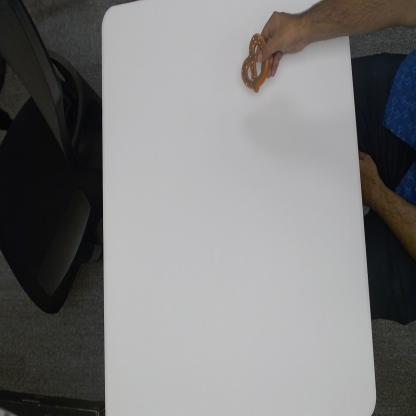Arm: (298, 1, 416, 46)
Hand: (257, 9, 298, 80)
Pretzel: (241, 30, 270, 94)
